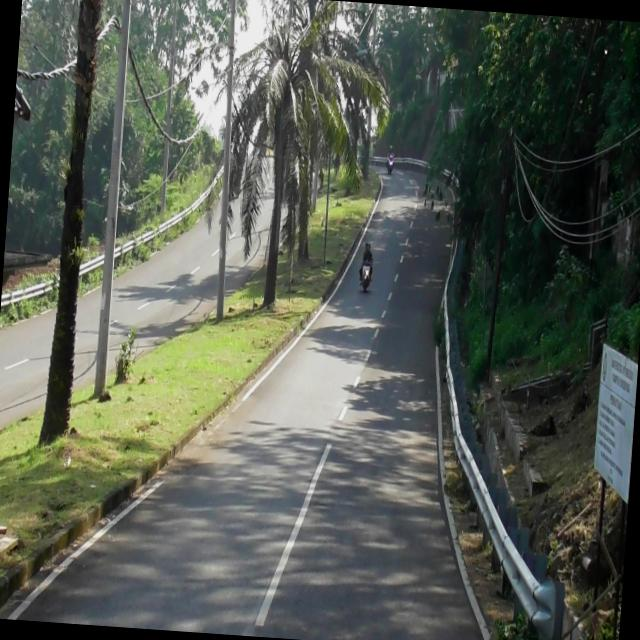motorcycle: (360, 258, 370, 292), (386, 154, 394, 176)
person: (358, 242, 374, 284), (360, 243, 374, 282), (388, 142, 395, 158)
rider_region: (358, 238, 375, 292), (384, 140, 396, 174)
